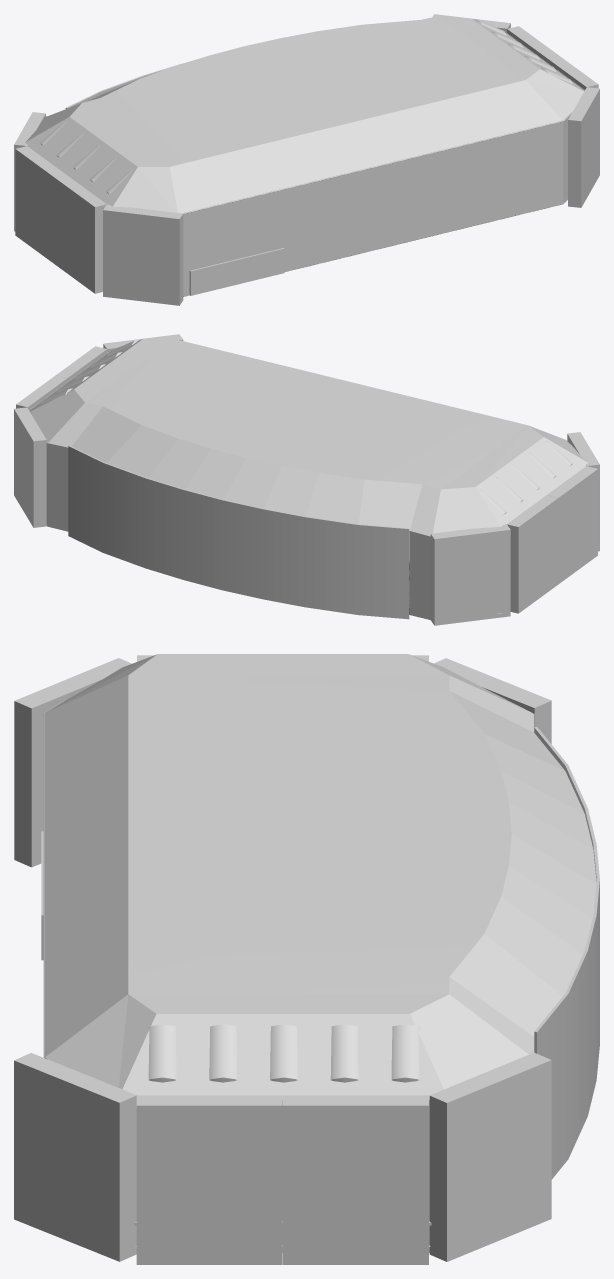
Rendered from placeholder_room.FBX.
3 views of the same model, one above another, from view 1: azimuth 30°, elevation 25°; view 2: azimuth 150°, elevation 25°; view 3: azimuth 270°, elevation 25° (orthographic). The views are drawn at different scales.
Visible parts, largest first — view 1: techo, Suelo, modulo pared00, modulo pared01, modulo pared02, modulo pared06, basurero, modulo pared07, modulo pared03, modulo pared05; view 2: techo, cristal, modulo pared03, modulo pared02, modulo pared01, Suelo, modulo pared04, modulo pared00, modulo pared05, modulo pared07; view 3: techo, modulo pared07, modulo pared05, modulo pared04, modulo pared06, cristal, modulo pared00, modulo pared03, tanque04, tanque02, tanque00, tanque03 (+1 smaller).
Part boxes in pixels (x1,y1,x2,y2): techo: (25,16,584,213); Suelo: (46,31,584,296); modulo pared00: (103,204,183,305); modulo pared01: (55,175,106,293); modulo pared02: (15,146,66,264); modulo pared06: (568,87,599,207); basurero: (189,248,284,295); modulo pared07: (547,55,598,89); modulo pared03: (14,112,45,231); modulo pared05: (507,26,558,61); techo: (29,338,587,536); cristal: (68,445,409,619); modulo pared03: (430,524,510,625); modulo pared02: (507,495,558,613); modulo pared01: (547,466,597,584); Suelo: (29,352,572,619); modulo pared04: (14,407,46,527); modulo pared00: (567,432,599,551); modulo pared05: (16,375,67,409); modulo pared07: (56,346,107,381); techo: (43,654,596,1099); modulo pared07: (136,1095,282,1264); modulo pared05: (283,1095,428,1264); modulo pared04: (429,1052,551,1261); modulo pared06: (14,1053,136,1261); cristal: (534,726,599,1179); modulo pared00: (14,658,131,867); modulo pared03: (434,658,551,743); tanque04: (391,1024,420,1082); tanque02: (270,1024,297,1082); tanque00: (147,1024,176,1082); tanque03: (330,1024,358,1082).
Bounding box in the file's own units: 2309 × 504 × 1269.
